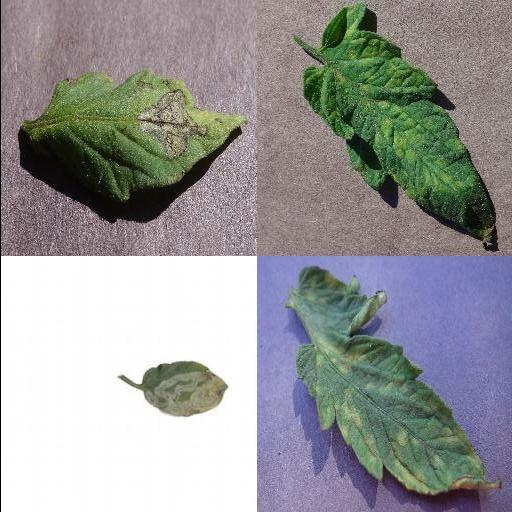Early Blight: (22, 73, 248, 204)
Leaf Miner: (140, 362, 228, 419)
Leaf Mold: (294, 265, 504, 496), (302, 4, 496, 249)
